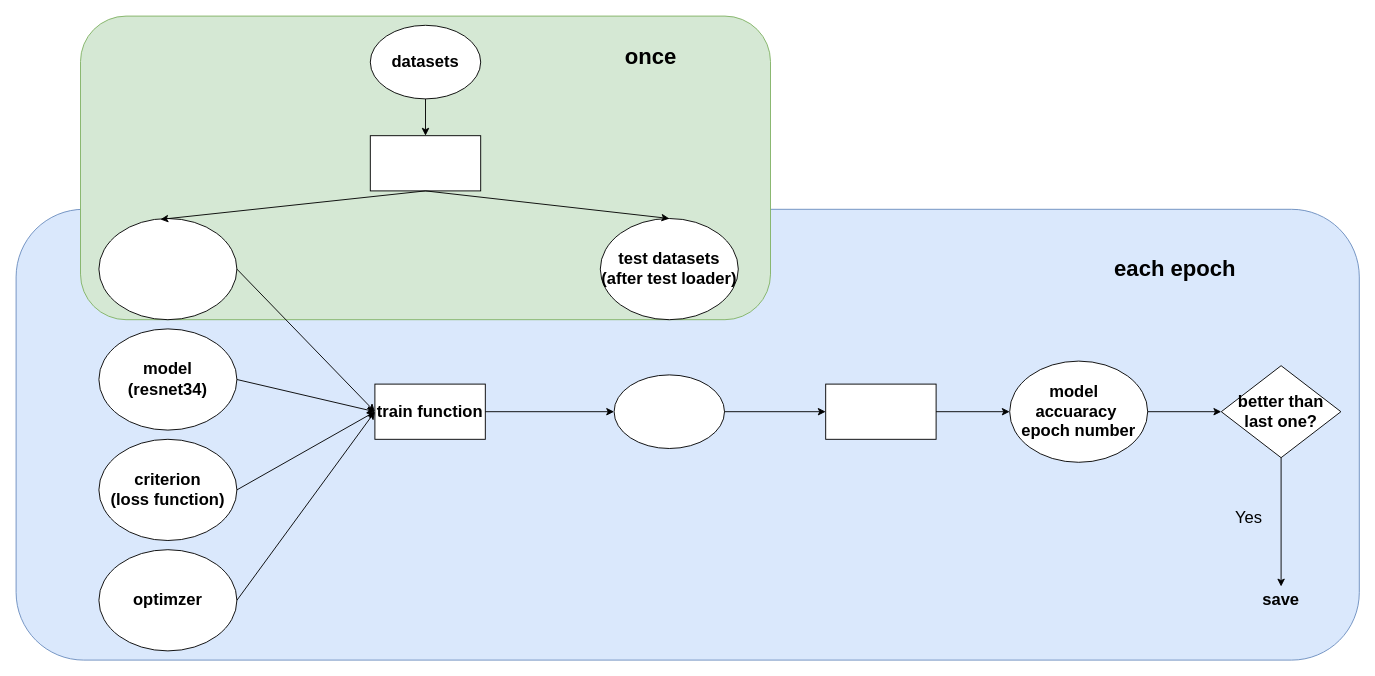
Some shapes in this 1375 by 676 pixel diagram are drawn without their labels. Each missing label, with the box of its shape:
dataloader (CIFAR10N): (369, 135, 481, 191)
New model: (613, 374, 724, 448)
test function: (825, 383, 936, 439)
train datasets (after train loader): (98, 218, 237, 320)
